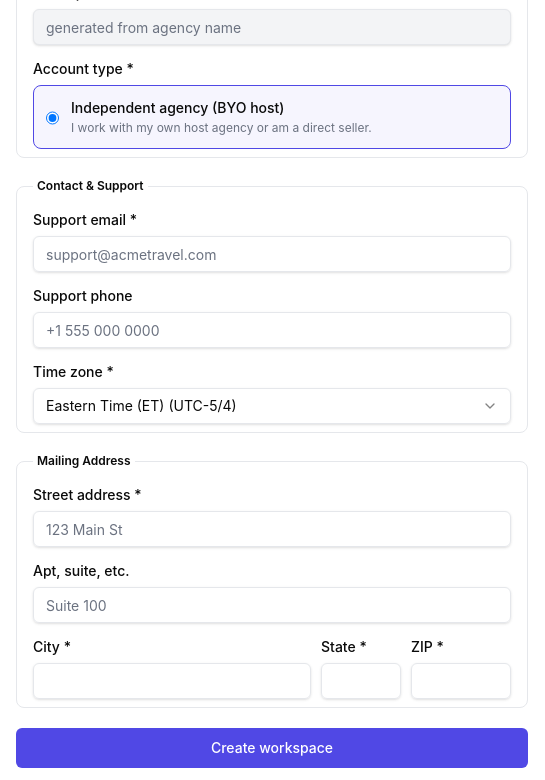
Scenario: /signup/complete rendering › shows per-field errors for every required field when submitted empty
(page scrolled)
What coordinates should you click on to do the following:
click the button "Create workspace"
I would click on:
 (272, 748)
Its box is [16, 728, 528, 768].
(page scrolled)
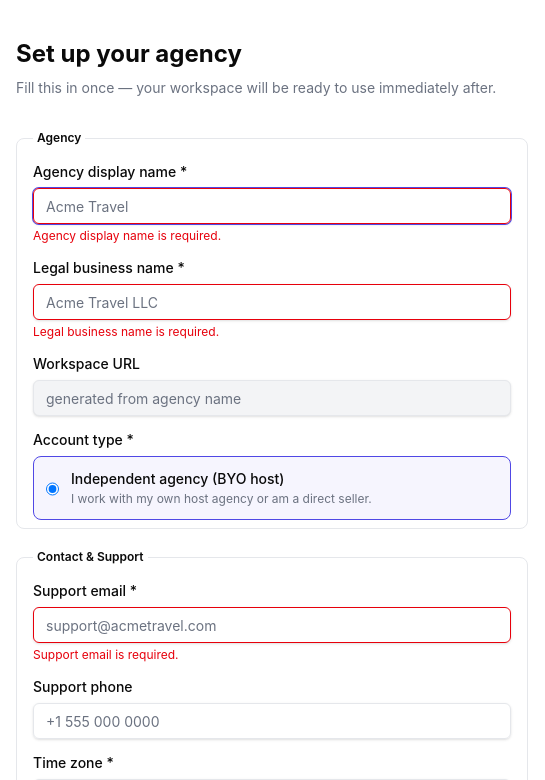
Expected: the text "Agency display name is required." is shown, [33, 228, 221, 243]
